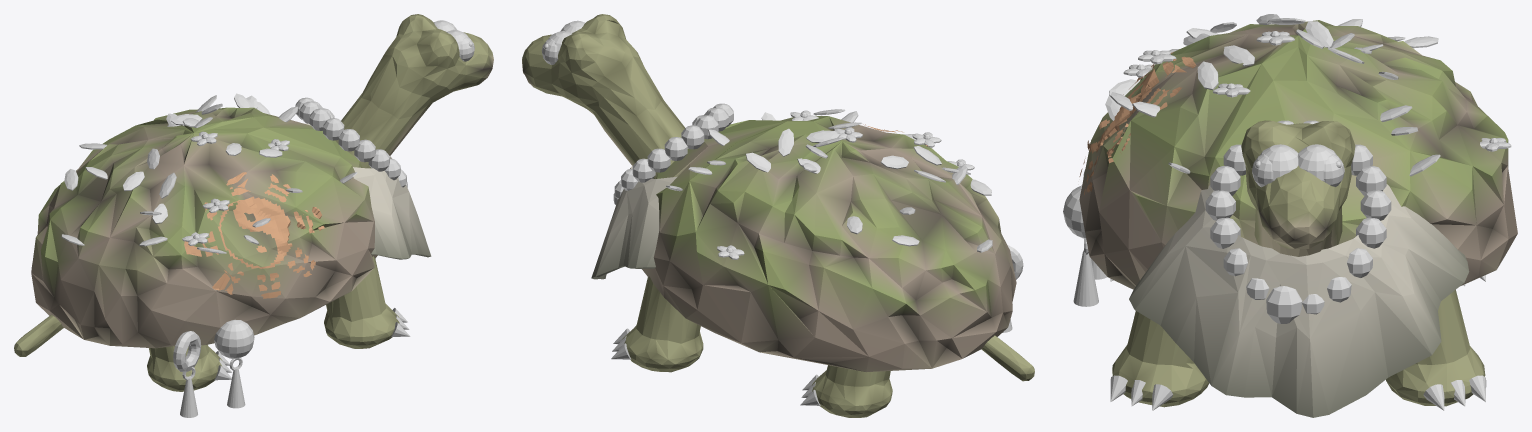
The model's file is shellback-creature.glb.
3 renders of one model, left to right at view 1: azimuth 30°, elevation 25°; view 2: azimuth 150°, elevation 25°; view 3: azimuth 270°, elevation 25°, orthographic. The views are drawn at different scales.
Visible parts, largest first — view 1: shellback-creature; view 2: shellback-creature; view 3: shellback-creature.
Boxes of the visible parts, x1,y1,x2,y2 form: shellback-creature: (14, 14, 493, 417); shellback-creature: (522, 14, 1034, 417); shellback-creature: (1063, 14, 1517, 417).
Size of the model in its own units: 1.19 by 0.6225 by 0.706.
